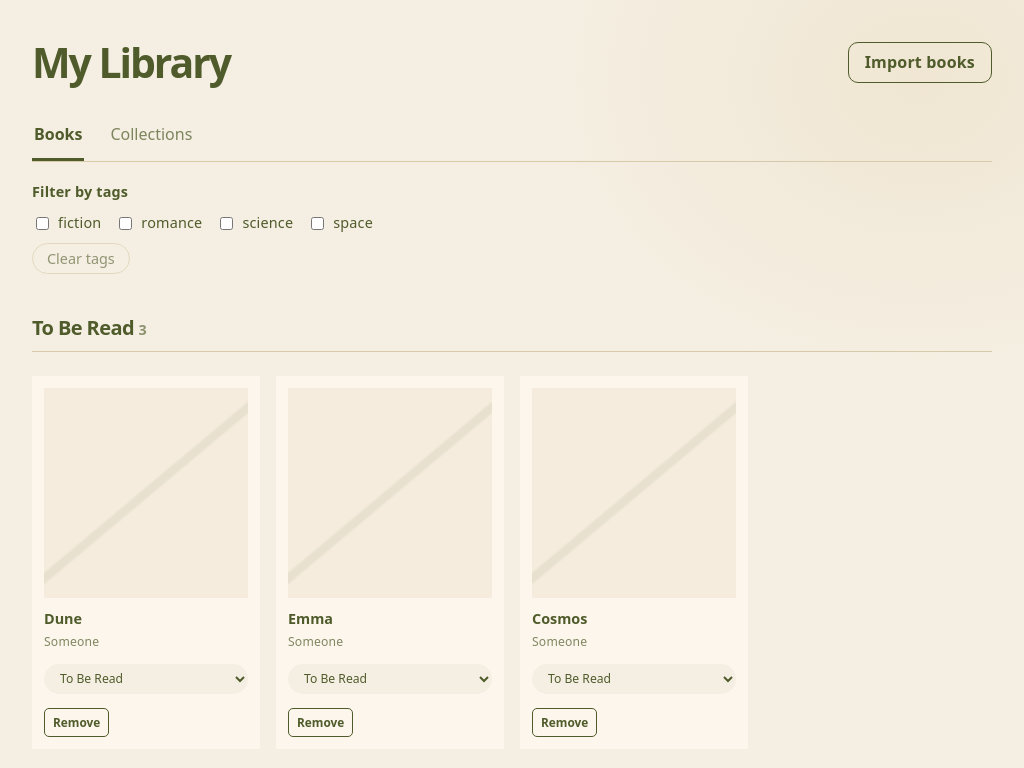
Test: PersonalLibraryPage › TST-01-T-1 library updates reading status
Select "Finished" in the dropdown named "Reading status for Dune" at coordinates (146, 679), box [44,664,248,694]
(page scrolled)
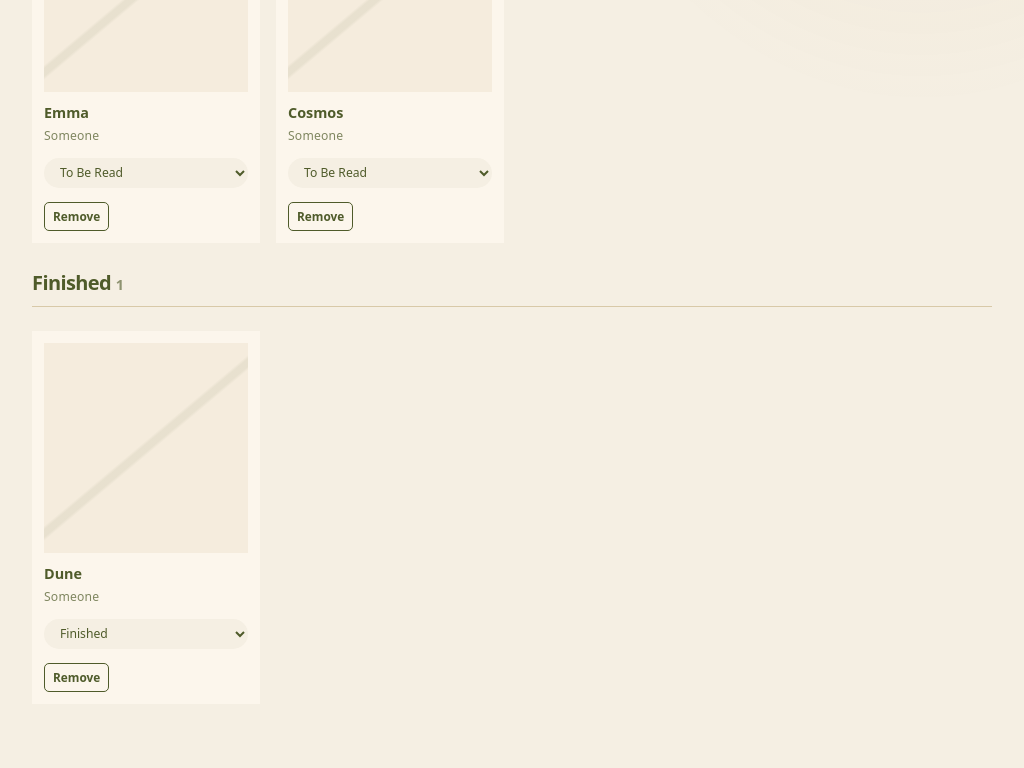
Check: the dropdown named "Reading status for Dune" shows "Finished", box [44,619,248,649]
